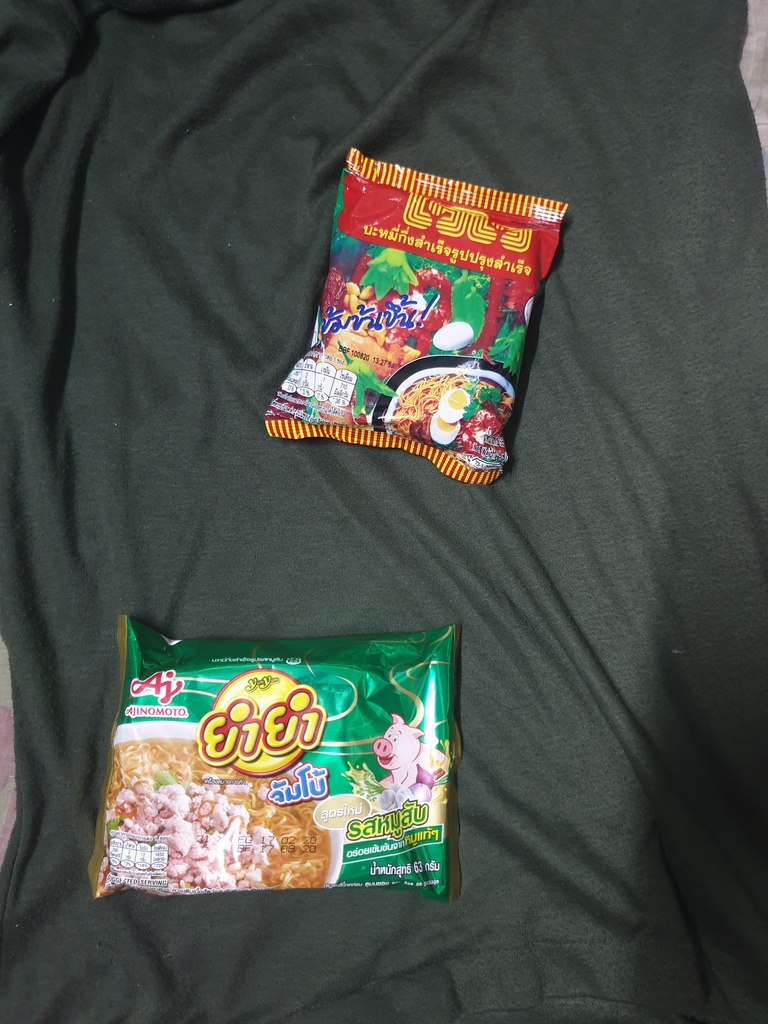waiwai: (275, 148, 566, 474)
yumyum: (95, 609, 468, 910)
